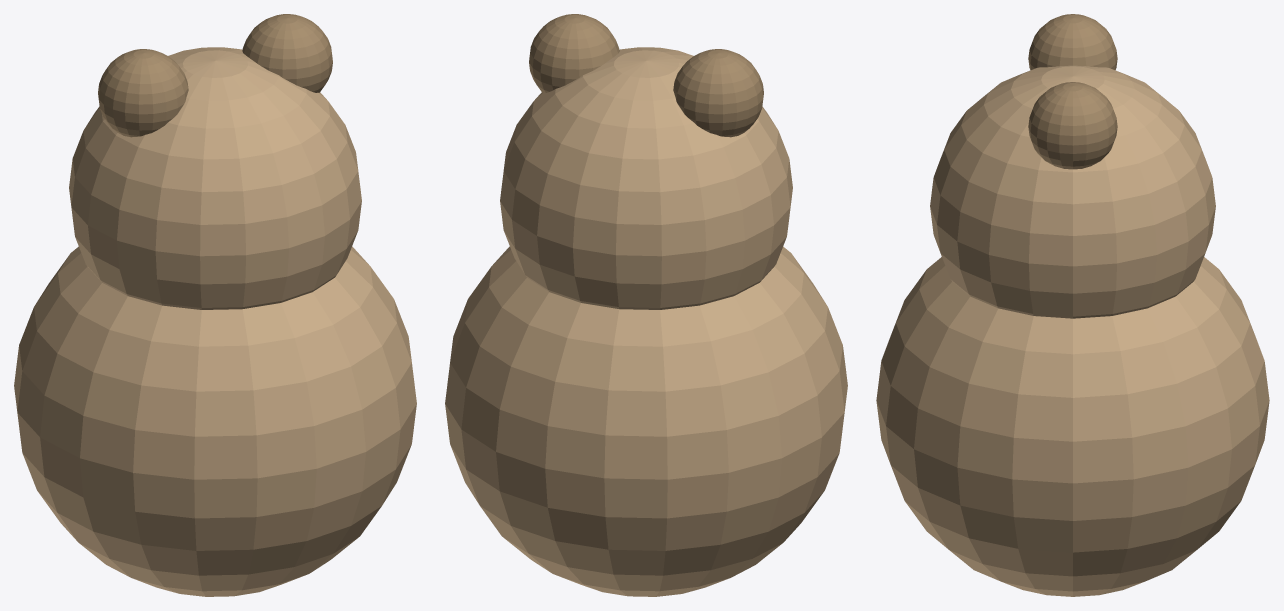
File: pickup.tanuki.v1.glb
The picture shows the model from 3 angles, left to right: view 1: azimuth 30°, elevation 25°; view 2: azimuth 150°, elevation 25°; view 3: azimuth 270°, elevation 25°; orthographic projection. The views are drawn at different scales.
Visible parts, largest first — view 1: pickup.tanuki.v1_body, pickup.tanuki.v1_head, pickup.tanuki.v1_ear_l, pickup.tanuki.v1_ear_r; view 2: pickup.tanuki.v1_body, pickup.tanuki.v1_head, pickup.tanuki.v1_ear_l, pickup.tanuki.v1_ear_r; view 3: pickup.tanuki.v1_body, pickup.tanuki.v1_head, pickup.tanuki.v1_ear_r, pickup.tanuki.v1_ear_l.
Part boxes in pixels (<box>): pickup.tanuki.v1_body: <box>14,246,416,596</box>; pickup.tanuki.v1_head: <box>69,47,361,309</box>; pickup.tanuki.v1_ear_l: <box>98,49,188,137</box>; pickup.tanuki.v1_ear_r: <box>242,14,332,92</box>; pickup.tanuki.v1_body: <box>445,246,847,596</box>; pickup.tanuki.v1_head: <box>500,47,792,309</box>; pickup.tanuki.v1_ear_l: <box>673,49,763,137</box>; pickup.tanuki.v1_ear_r: <box>529,14,619,92</box>; pickup.tanuki.v1_body: <box>876,257,1269,596</box>; pickup.tanuki.v1_head: <box>930,65,1215,318</box>; pickup.tanuki.v1_ear_r: <box>1028,82,1117,169</box>; pickup.tanuki.v1_ear_l: <box>1028,14,1117,70</box>.
Size of the model in its own units: 0.44 by 0.65 by 0.44.
